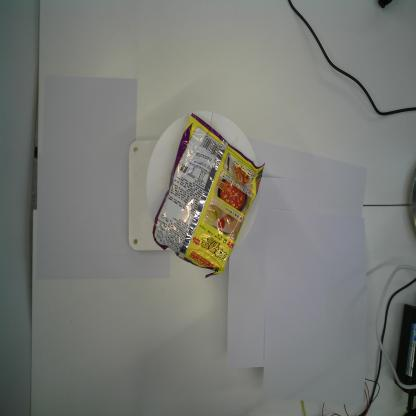Instant Noodles: (151, 111, 266, 281)
